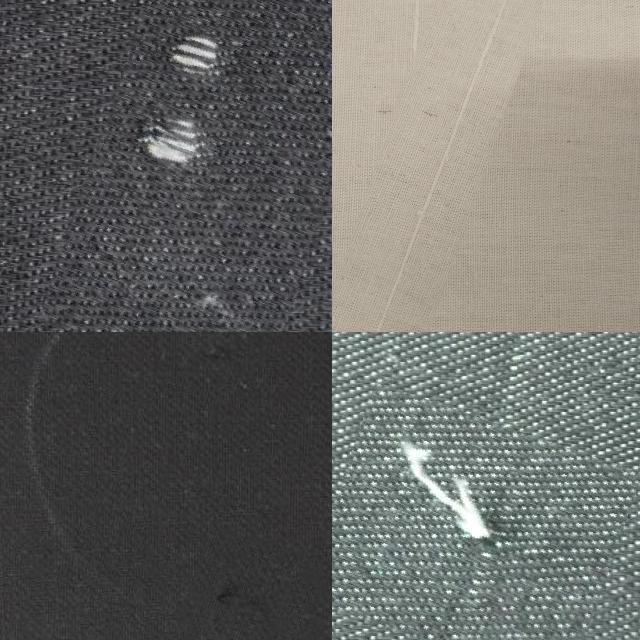Thread_other: (68, 0, 332, 332), (332, 401, 628, 640), (332, 0, 503, 332), (181, 533, 330, 640)
